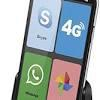Smartphone: (14, 0, 89, 100)
